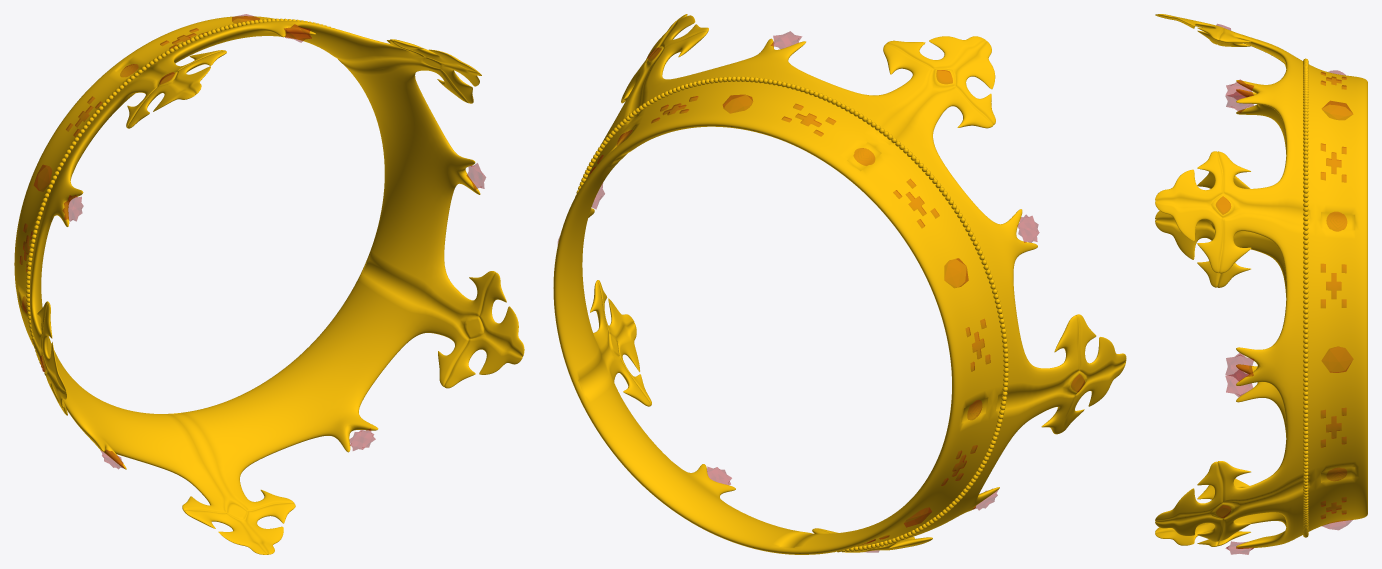
File: Crown.obj
3 renders of one model, left to right at view 1: azimuth 30°, elevation 25°; view 2: azimuth 150°, elevation 25°; view 3: azimuth 270°, elevation 25°, orthographic. The views are drawn at different scales.
Parts seen in each view (by area): view 1: obj31; view 2: obj31; view 3: obj31, obj24, obj26, obj25, obj6, obj29, obj27, obj4, obj10, obj18, obj28.
Part boxes in pixels (x1=…): obj31: x1=14, y1=16, x2=524, y2=554; obj31: x1=553, y1=14, x2=1126, y2=554; obj31: x1=1155, y1=14, x2=1367, y2=548; obj24: x1=1322, y1=347, x2=1352, y2=372; obj26: x1=1225, y1=353, x2=1253, y2=381; obj25: x1=1322, y1=101, x2=1352, y2=119; obj6: x1=1321, y1=264, x2=1346, y2=307; obj29: x1=1225, y1=369, x2=1252, y2=396; obj27: x1=1225, y1=79, x2=1253, y2=99; obj4: x1=1321, y1=408, x2=1346, y2=447; obj10: x1=1321, y1=143, x2=1346, y2=182; obj18: x1=1326, y1=212, x2=1346, y2=231; obj28: x1=1225, y1=92, x2=1253, y2=112.
Bounding box in the file's own units: 1.67 × 1.66 × 0.6533.
